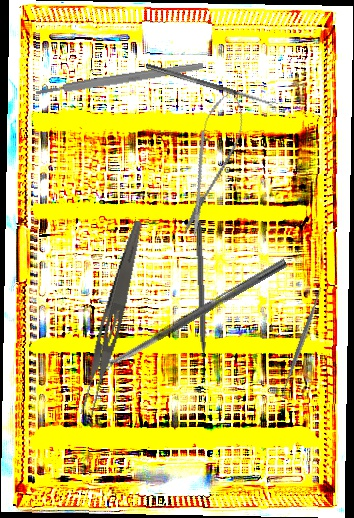Dressing Forceps: (76, 217, 147, 419)
Hook Surgical: (194, 220, 208, 378)
Micro Scissor: (170, 84, 253, 242)
Scalpel Handle: (35, 60, 204, 98)
Spatula Surgical: (276, 284, 328, 399)
Surgical Spoon: (95, 257, 288, 375), (145, 63, 278, 109)
